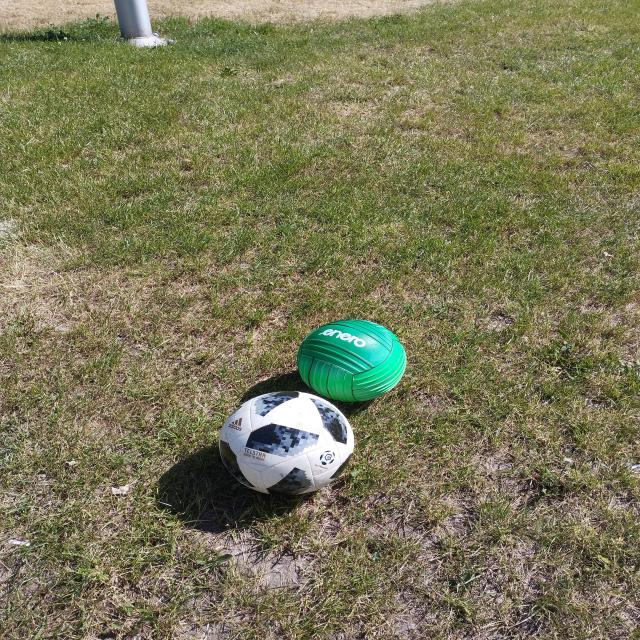nozna: (219, 391, 355, 495)
zielona: (297, 319, 406, 402)
